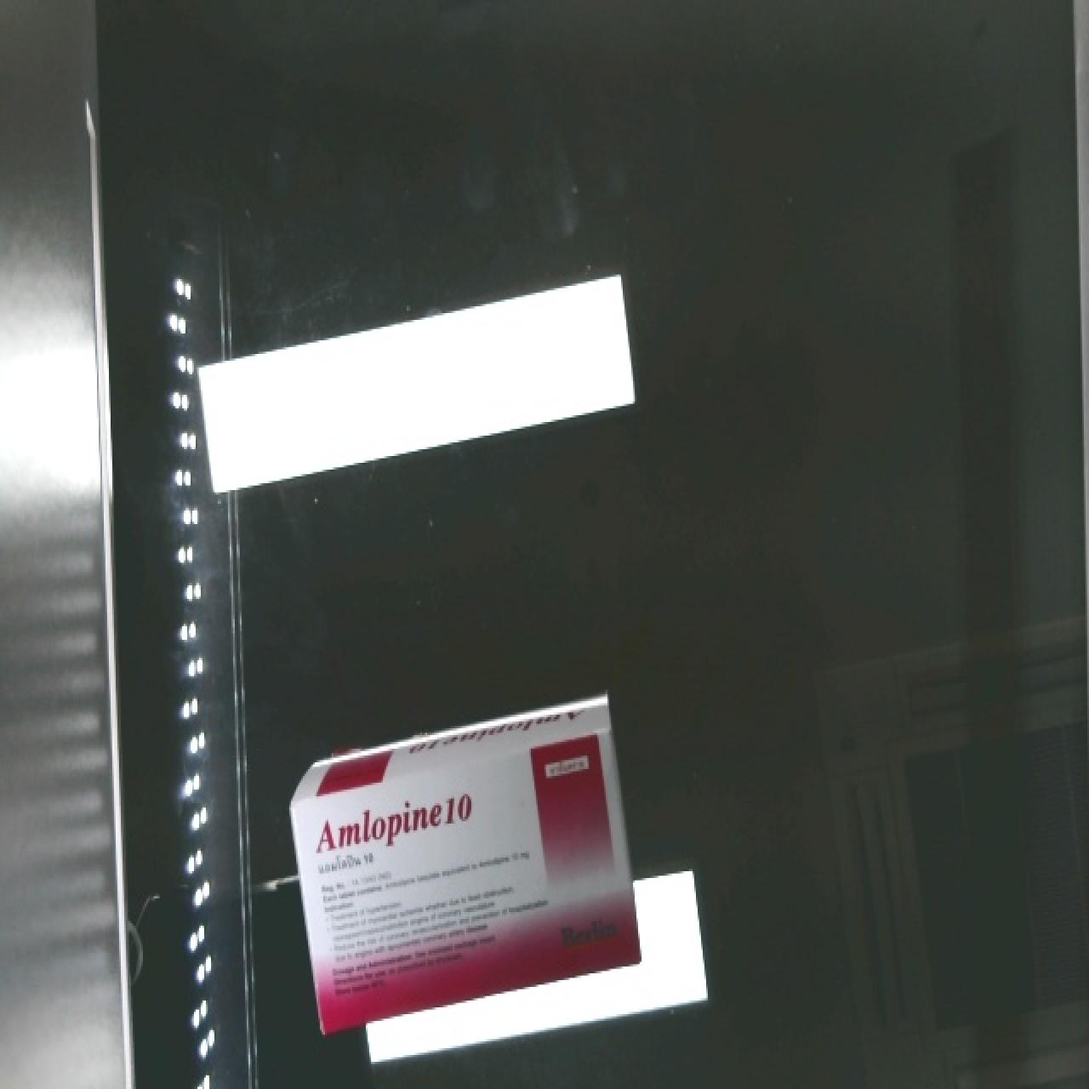medicine_label_obb: (290, 762, 500, 872)
